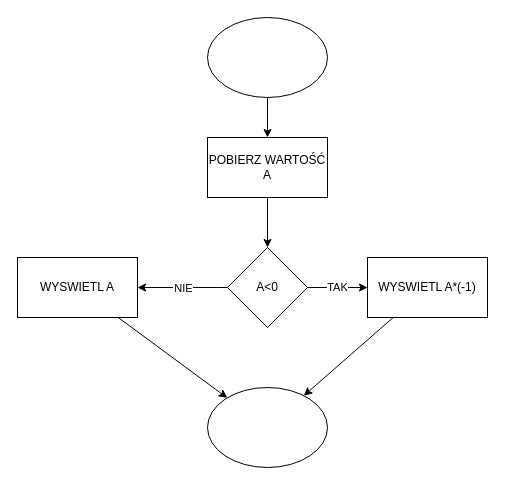
Some shapes in this 505 by 485 pixel diagram are drawn without their labels. The shapes that lost their labels are listed below. From the top down, each one's centre as x and y in pixels, then its label:
At point (267, 57): "START".
At point (267, 427): "STOP".
